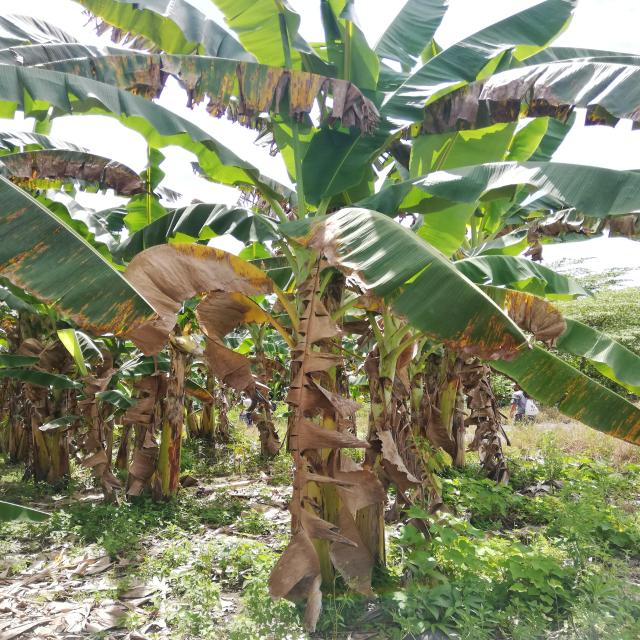Banana-plant: (262, 216, 358, 600), (364, 322, 407, 524), (162, 315, 198, 500)
